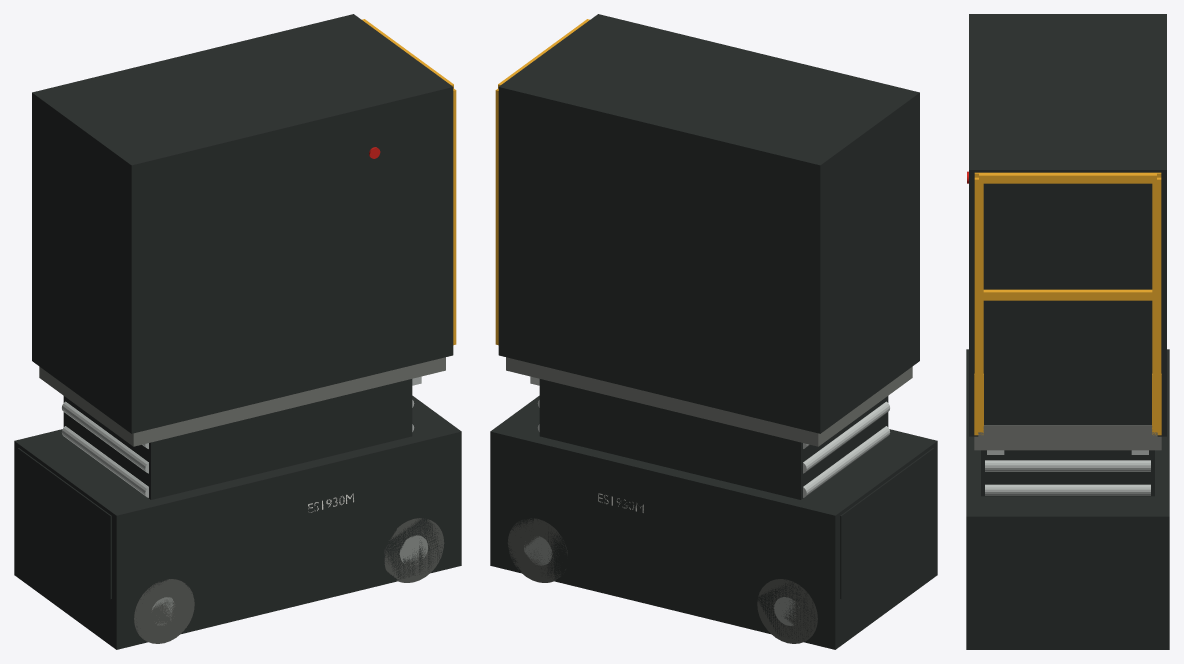
3 renders of one model, left to right at view 1: azimuth 30°, elevation 25°; view 2: azimuth 150°, elevation 25°; view 3: azimuth 270°, elevation 25°, orthographic.
Parts seen in each view (by area): view 1: Platform_Hit, Chassis_Hit, Scissor_Hit, RearCounterweight, Steering_Hit, MainDeck, RearTire_-1, FrontTire_-1, Level03_PIN_UPPER_L, Level04_PIN_UPPER_L, ExtensionRailPost_-1_1; view 2: Platform_Hit, Chassis_Hit, Scissor_Hit, RearCounterweight, MainDeck, Steering_Hit, RearTire_1, FrontTire_1, Level03_PIN_UPPER_L, Level04_PIN_UPPER_L, ExtensionRailPost_1_1; view 3: Platform_Hit, Chassis_Hit, Scissor_Hit, ExtensionDeckWeldment, ExtensionRailPost_-1_1, ExtensionRailPost_1_1, GateRail_1.962, MainDeck, GateRail_1.48, Level03_PIN_UPPER_R, Level04_PIN_UPPER_R.
Boxes of the visible parts, x1,y1,x2,y2 form: Platform_Hit: (32,14,453,433); Chassis_Hit: (14,395,461,649); Scissor_Hit: (63,379,412,499); RearCounterweight: (17,448,111,598); Steering_Hit: (375,483,454,585); MainDeck: (39,357,445,446); RearTire_-1: (134,579,194,643); FrontTire_-1: (384,518,444,582); Level03_PIN_UPPER_L: (61,426,148,497); Level04_PIN_UPPER_L: (62,401,148,473); ExtensionRailPost_-1_1: (453,88,456,345); Platform_Hit: (498,14,919,433); Chassis_Hit: (490,395,937,649); Scissor_Hit: (539,379,888,499); RearCounterweight: (840,448,934,598); MainDeck: (506,357,912,446); Steering_Hit: (497,483,576,585); RearTire_1: (757,579,817,643); FrontTire_1: (507,518,567,582); Level03_PIN_UPPER_L: (803,426,890,497); Level04_PIN_UPPER_L: (803,401,889,473); ExtensionRailPost_1_1: (495,88,498,345); Platform_Hit: (969,14,1166,436); Chassis_Hit: (966,349,1169,649); Scissor_Hit: (981,450,1154,496); ExtensionDeckWeldment: (978,425,1157,440); ExtensionRailPost_-1_1: (974,177,983,432); ExtensionRailPost_1_1: (1152,177,1161,432); GateRail_1.962: (979,172,1156,183); MainDeck: (974,436,1161,450); GateRail_1.48: (979,289,1156,300); Level03_PIN_UPPER_R: (985,484,1150,495); Level04_PIN_UPPER_R: (985,460,1150,471).
Bounding box in the file's own units: 1.48 × 1.99 × 0.76.
